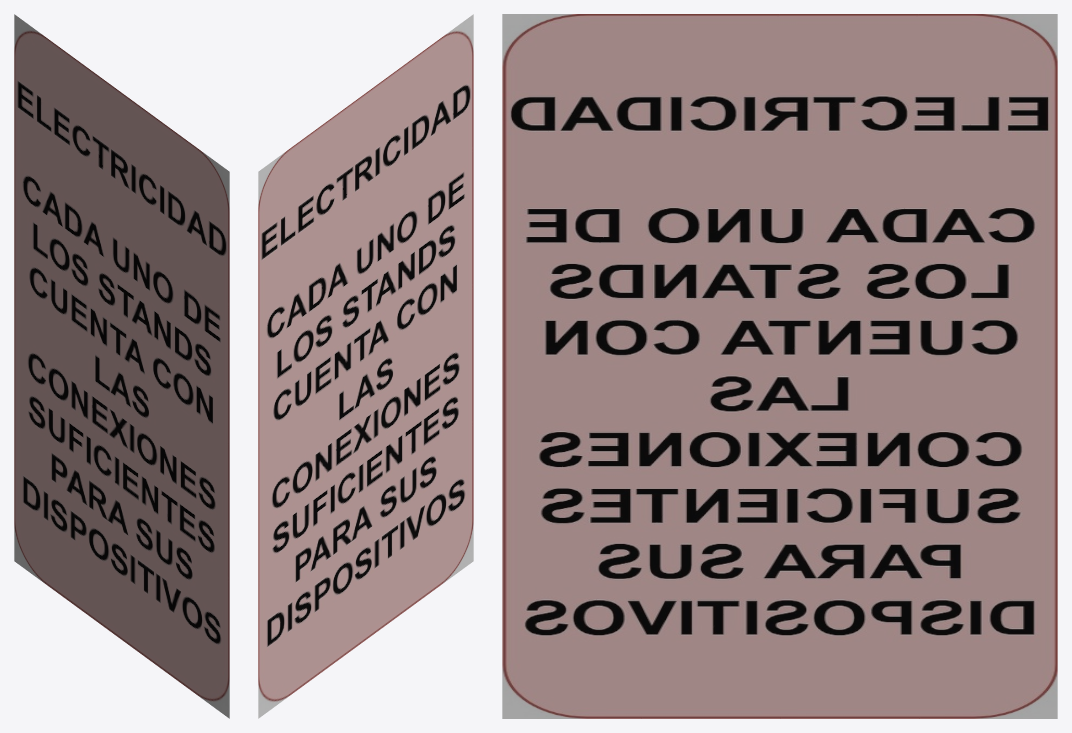
File: Cartel4.obj
3 renders of one model, left to right at view 1: azimuth 30°, elevation 25°; view 2: azimuth 150°, elevation 25°; view 3: azimuth 270°, elevation 25°, orthographic. The views are drawn at different scales.
Parts seen in each view (by area): view 1: Cartel4; view 2: Cartel4; view 3: Cartel4.
Part boxes in pixels (x1=…): Cartel4: x1=14, y1=14, x2=229, y2=718; Cartel4: x1=258, y1=14, x2=473, y2=718; Cartel4: x1=502, y1=14, x2=1057, y2=718.
Bounding box in the file's own units: 0 × 2.8 × 2.
1 material, 1 textured.
